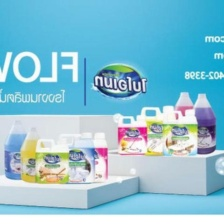cleaning_solution: (66, 131, 110, 183), (55, 131, 97, 185), (137, 104, 179, 158), (185, 91, 218, 156), (161, 106, 200, 159), (168, 89, 201, 147), (2, 118, 32, 180), (34, 136, 71, 186), (18, 125, 47, 184), (114, 113, 150, 157)
